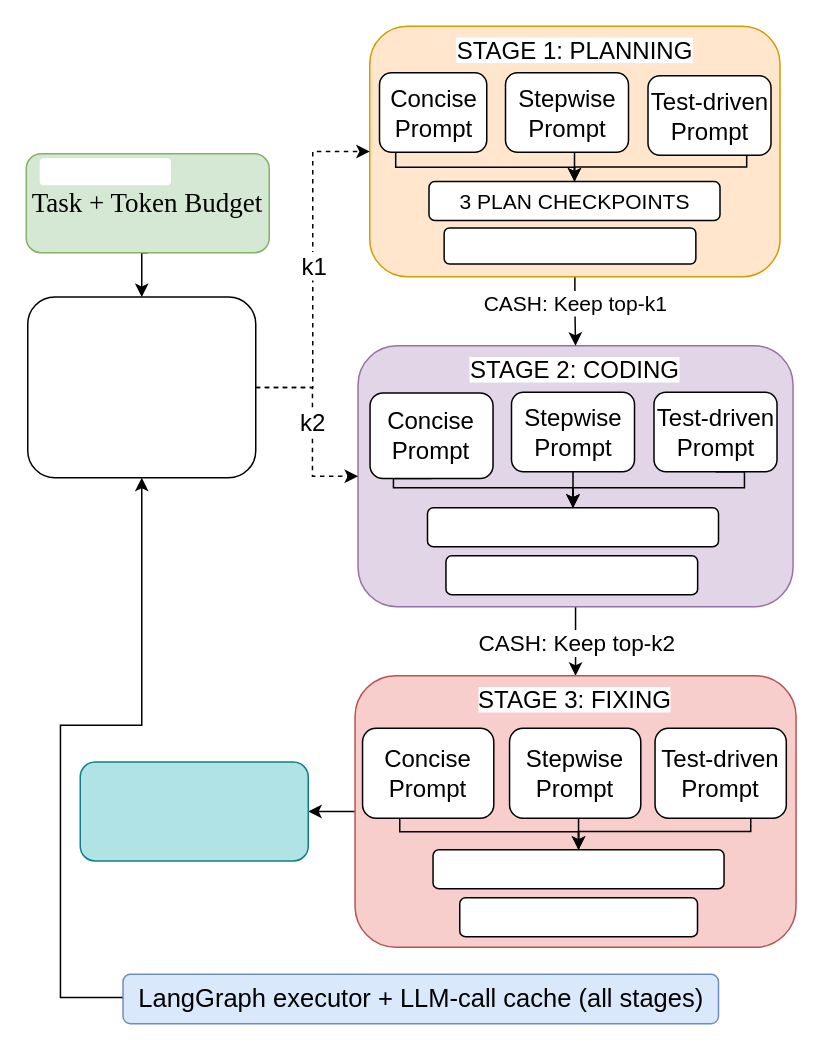
The diagram is 824 pixels wide and 1050 high, and some of its shapes have lost their labels. The centre of each missing label's shape, as x and y in pixels:
"3 x k1 CHECKPOINTS" belongs at [572,526].
"3 x k2 CHECKPOINTS" belongs at [578,868].
"Best leaf → Output Solution, Score, tokens, path" belongs at [193,810].
"CASH SCHEDULER Cost Tracker Budget Check sets k_i" belongs at [141,387].
"LLM-Judge Scoring" belongs at [569,245].
"Unit - Test Scoring" belongs at [571,574].
"Unit -Test Scoring" belongs at [578,916].
"USER INPUT" belongs at [104,171].
